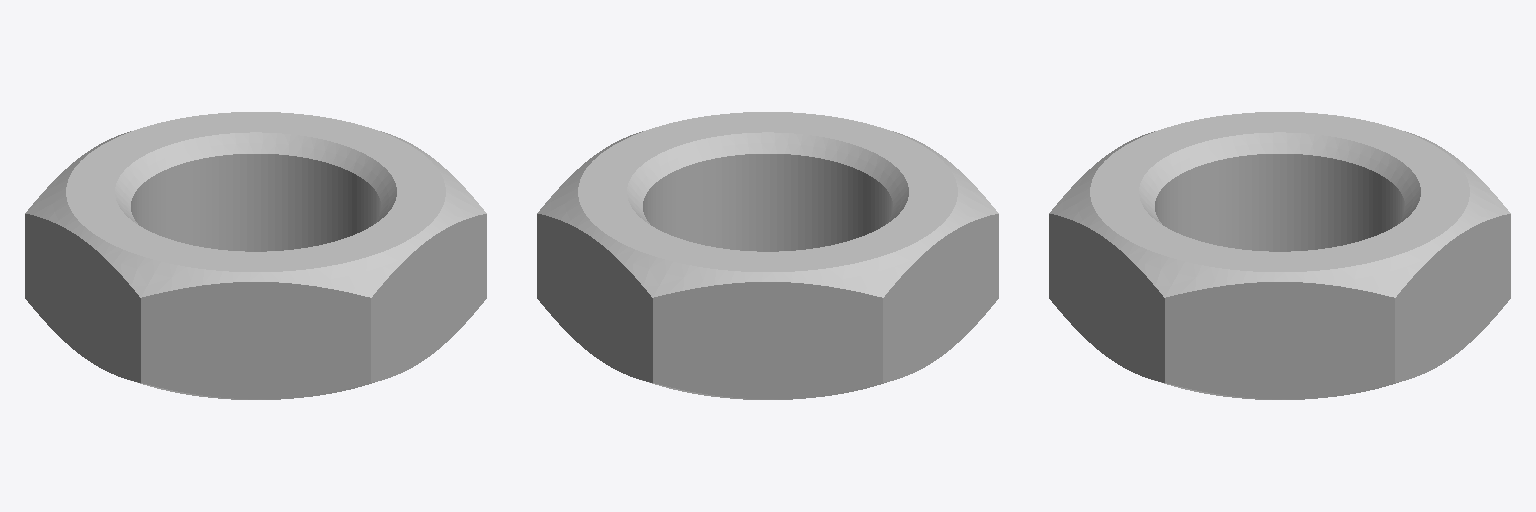
File: m12 nuts.obj
The picture shows the model from 3 angles: view 1: azimuth 30°, elevation 25°; view 2: azimuth 150°, elevation 25°; view 3: azimuth 270°, elevation 25°; orthographic projection.
Visible parts, largest first — view 1: imagetostl_mesh; view 2: imagetostl_mesh; view 3: imagetostl_mesh.
Boxes of the visible parts, x1,y1,x2,y2 form: imagetostl_mesh: [25, 112, 486, 399]; imagetostl_mesh: [537, 112, 998, 399]; imagetostl_mesh: [1049, 112, 1510, 399].
Size of the model in its own units: 17 by 6 by 19.63.